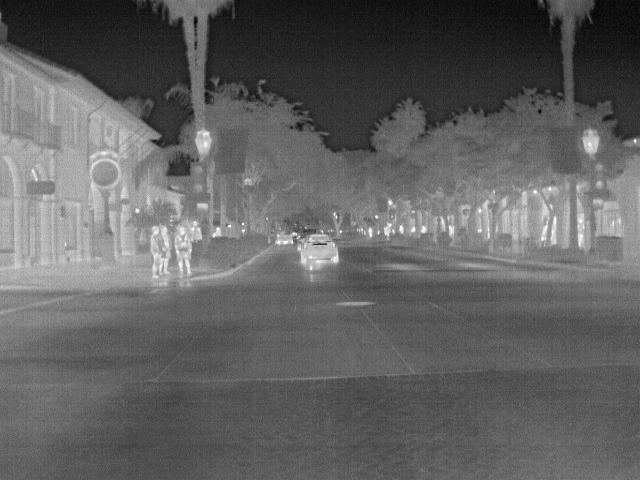car: (299, 235, 341, 266), (272, 228, 296, 246)
person: (173, 224, 195, 276), (147, 224, 165, 277), (159, 226, 176, 273), (576, 213, 589, 246)
